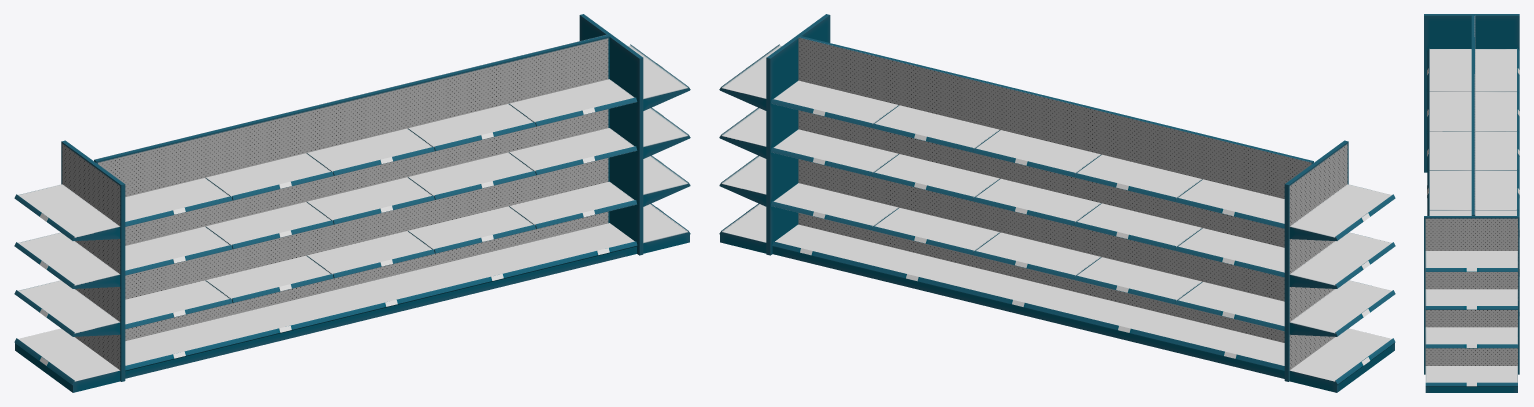
The model's file is GroceryStoreRack.fbx.
The picture shows the model from 3 angles, left to right: view 1: azimuth 30°, elevation 25°; view 2: azimuth 150°, elevation 25°; view 3: azimuth 270°, elevation 25°; orthographic projection. The views are drawn at different scales.
Visible parts, largest first — view 1: GroceryStoreRack; view 2: GroceryStoreRack; view 3: GroceryStoreRack.
Part boxes in pixels (x1,y1,x2,y2): GroceryStoreRack: (14, 14, 690, 392); GroceryStoreRack: (719, 14, 1395, 392); GroceryStoreRack: (1424, 14, 1519, 392).
Bounding box in the file's own units: 664 × 203 × 111.
